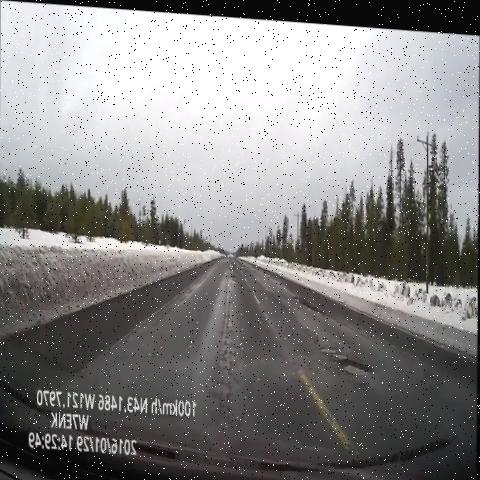pothole: (318, 335, 377, 387), (295, 276, 329, 320), (223, 250, 240, 271), (227, 266, 243, 287)
